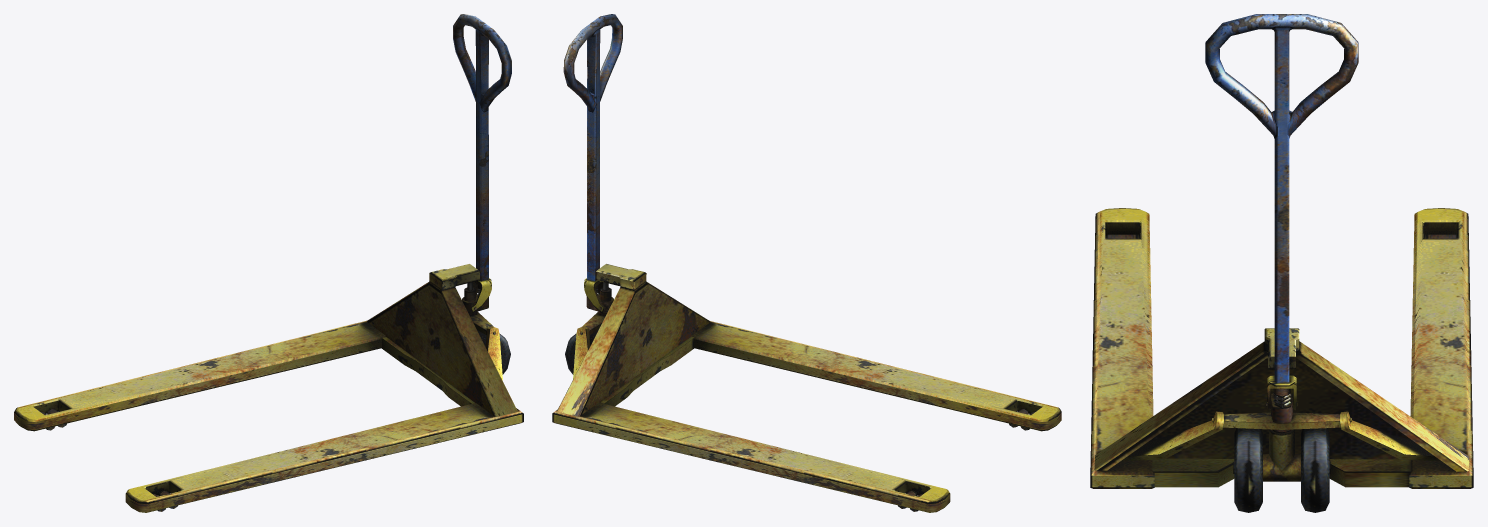
File: HandTruck.FBX
The picture shows the model from 3 angles, left to right: view 1: azimuth 30°, elevation 25°; view 2: azimuth 150°, elevation 25°; view 3: azimuth 270°, elevation 25°; orthographic projection. The views are drawn at different scales.
Parts seen in each view (by area): view 1: HandTruck; view 2: HandTruck; view 3: HandTruck.
Part boxes in pixels (x1,y1,x2,y2): HandTruck: [14, 14, 523, 512]; HandTruck: [552, 14, 1061, 512]; HandTruck: [1090, 14, 1473, 512].
Size of the model in its own units: 1.74 by 1.38 by 0.9555.
